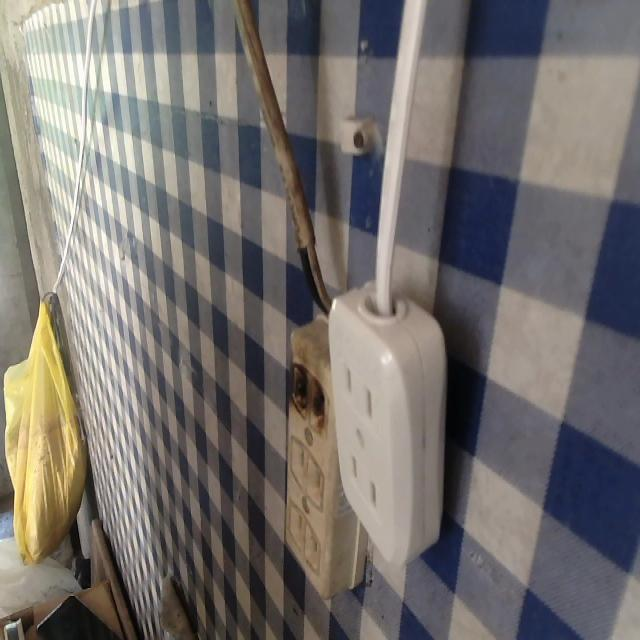-: (279, 351, 335, 432)
